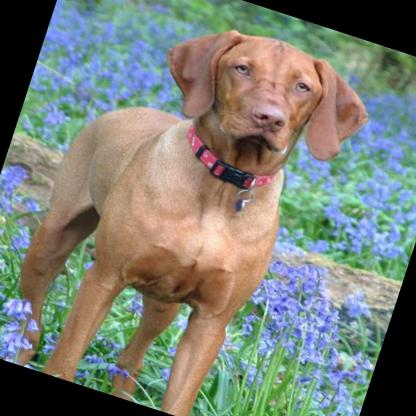vizsla: (0, 0, 378, 416)
